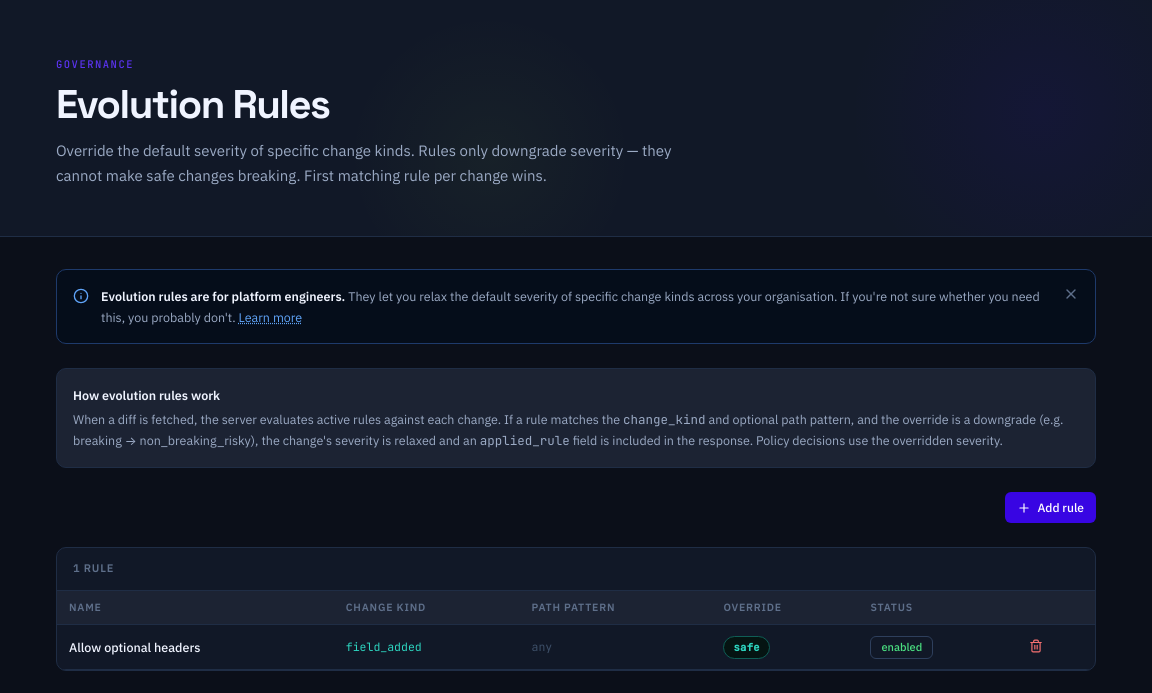
it: EvolutionRulesPage accessibility › names the icon-only dismiss, close and delete controls
Expected: the button named "Dismiss platform engineer note" is shown, top-left (1063, 286), bottom-right (1079, 302)
Note: Create-form close.
Step 1. Click the button "Add rule" → (1051, 508), box top-left (1005, 492), bottom-right (1096, 523)
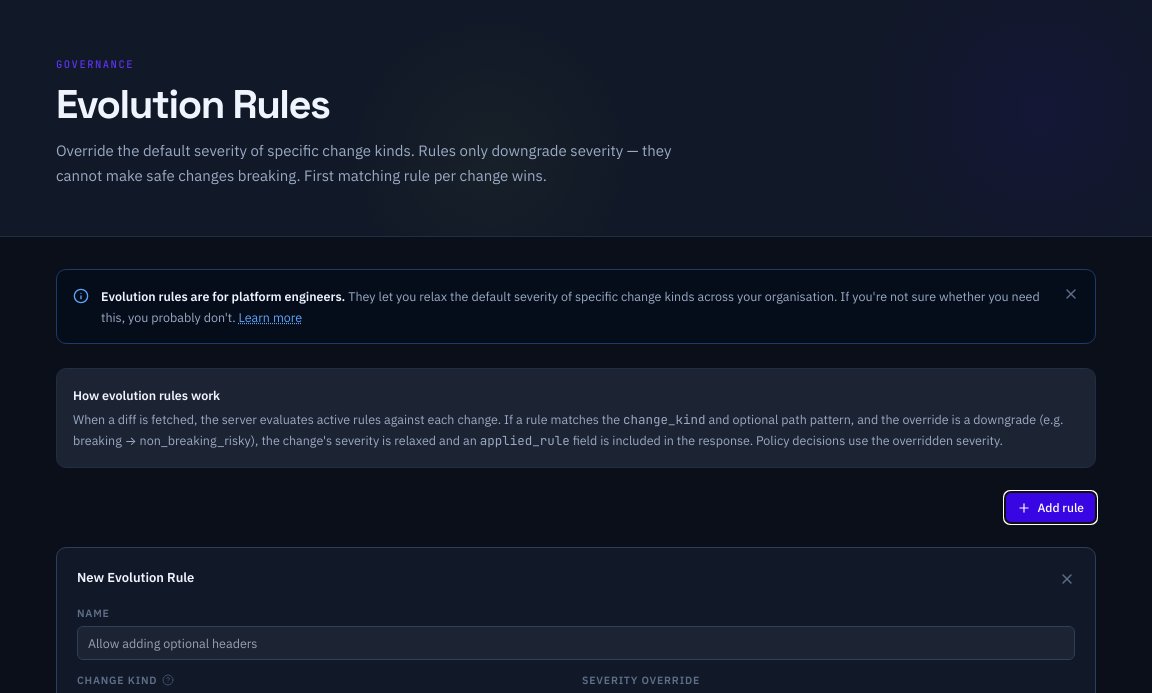
Result: the button named "Close new evolution rule form" is shown at top-left (1059, 570), bottom-right (1075, 586)
